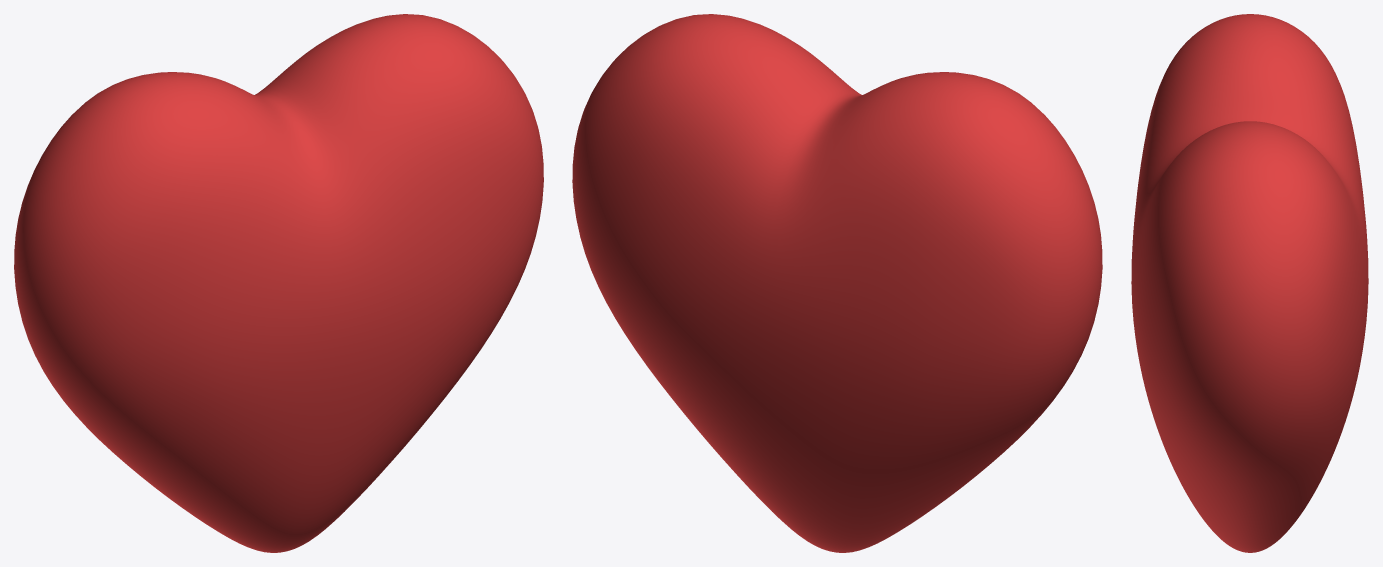
The model's file is heart.gltf.
The picture shows the model from 3 angles, left to right: view 1: azimuth 30°, elevation 25°; view 2: azimuth 150°, elevation 25°; view 3: azimuth 270°, elevation 25°; orthographic projection. The views are drawn at different scales.
Parts seen in each view (by area): view 1: Heart; view 2: Heart; view 3: Heart.
Boxes of the visible parts, x1=… form: Heart: x1=14, y1=14, x2=543, y2=552; Heart: x1=572, y1=14, x2=1102, y2=552; Heart: x1=1131, y1=14, x2=1368, y2=552.
Size of the model in its own units: 3.22 by 3.02 by 1.38.
